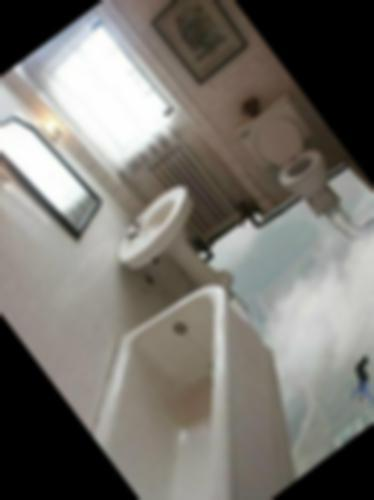Lavamanos: (95, 166, 256, 331)
Sanitario: (226, 82, 365, 234)
